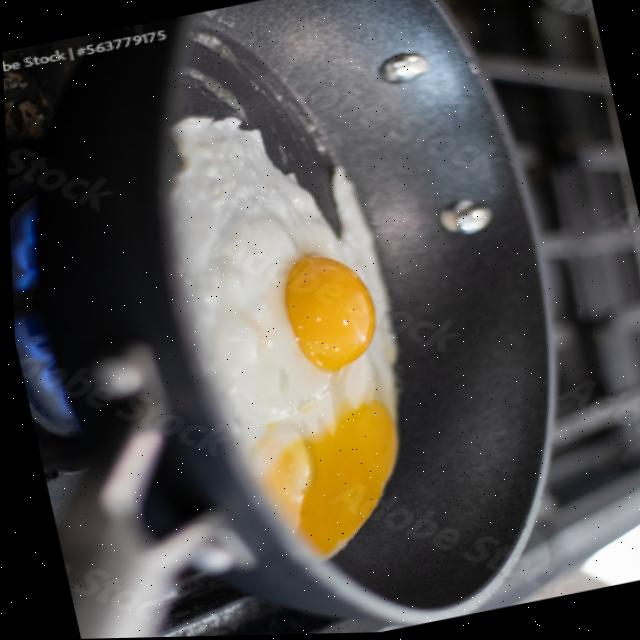Egg: (168, 118, 393, 558)
